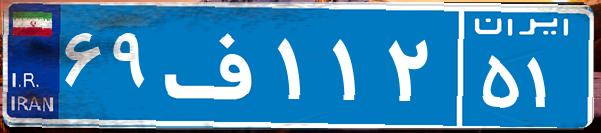1: (273, 28, 330, 110), (330, 28, 385, 110), (525, 38, 570, 115)
2: (385, 28, 445, 110)
5: (475, 38, 525, 113)
6: (57, 26, 110, 107)
9: (110, 28, 158, 105)
ف: (158, 15, 273, 115)
